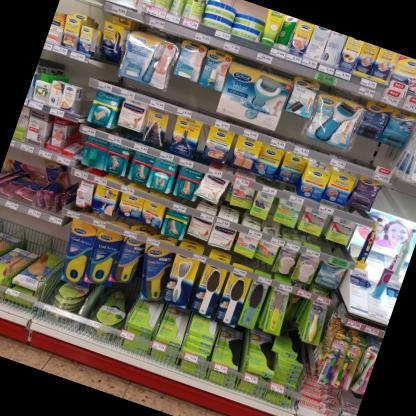empty_space: (298, 398, 337, 416)
